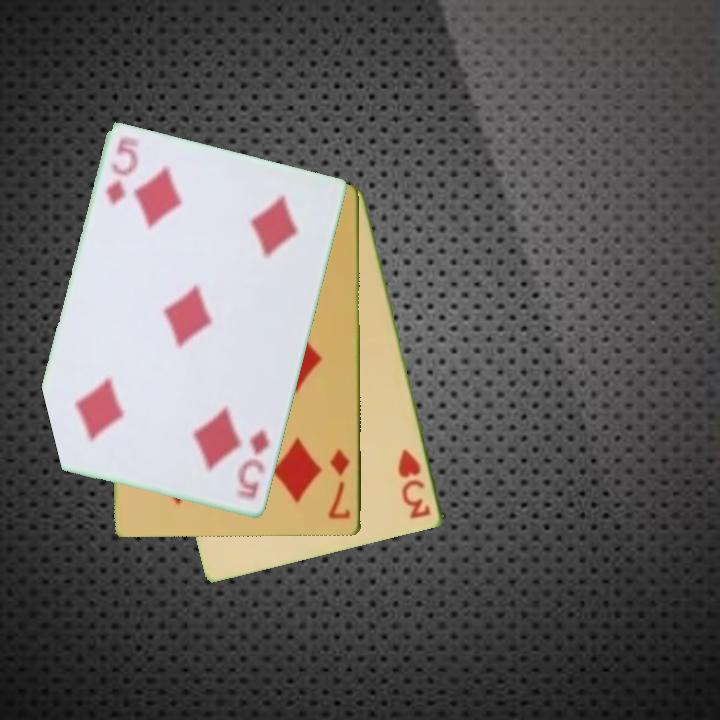3h: (395, 445, 434, 522)
5d: (233, 425, 272, 504), (102, 134, 142, 209)
7d: (325, 446, 354, 523)
